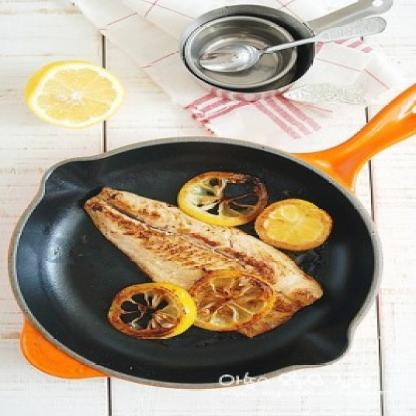Peixe: (60, 188, 326, 340)
